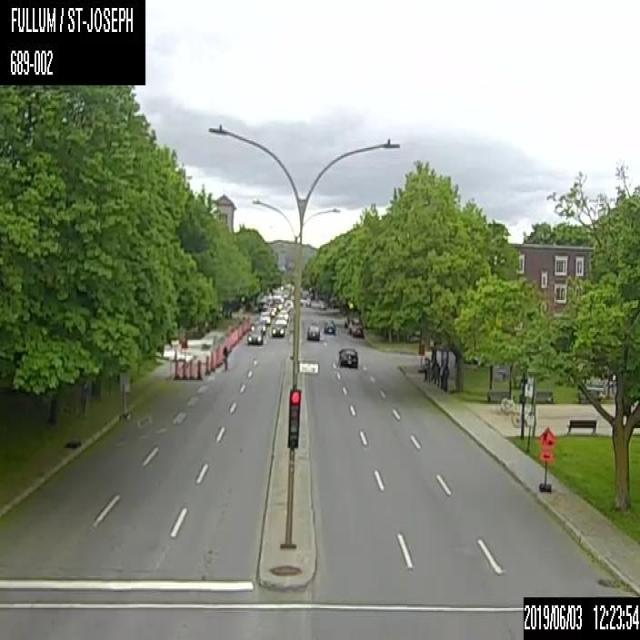construction: (537, 424, 555, 491), (118, 372, 131, 419), (173, 360, 178, 379)
cyclist: (220, 344, 228, 372)
pedestrian: (442, 363, 448, 391), (421, 356, 427, 381), (438, 362, 443, 388), (435, 362, 439, 386)
vehicle: (336, 344, 358, 369), (245, 327, 262, 344), (306, 324, 319, 340), (271, 322, 284, 336), (323, 319, 335, 333), (351, 323, 363, 336), (195, 359, 202, 379), (187, 359, 194, 378), (180, 360, 187, 379), (203, 354, 210, 373), (208, 351, 214, 369)
